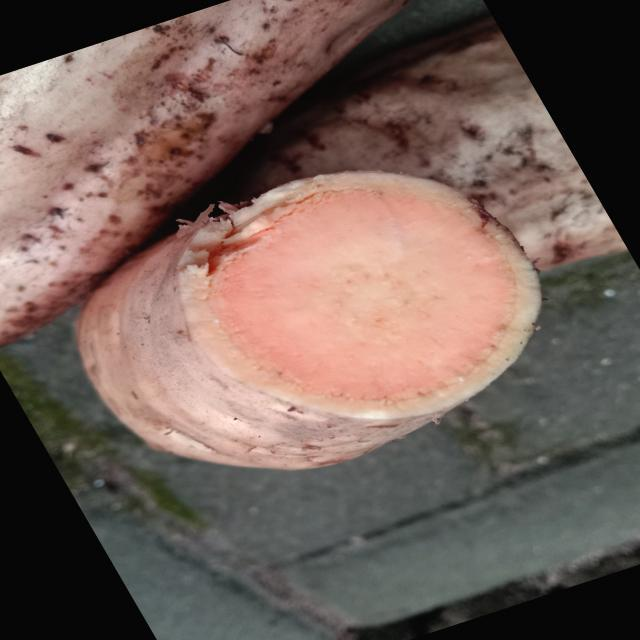Healthy Sweet Potato: (178, 171, 540, 419)
